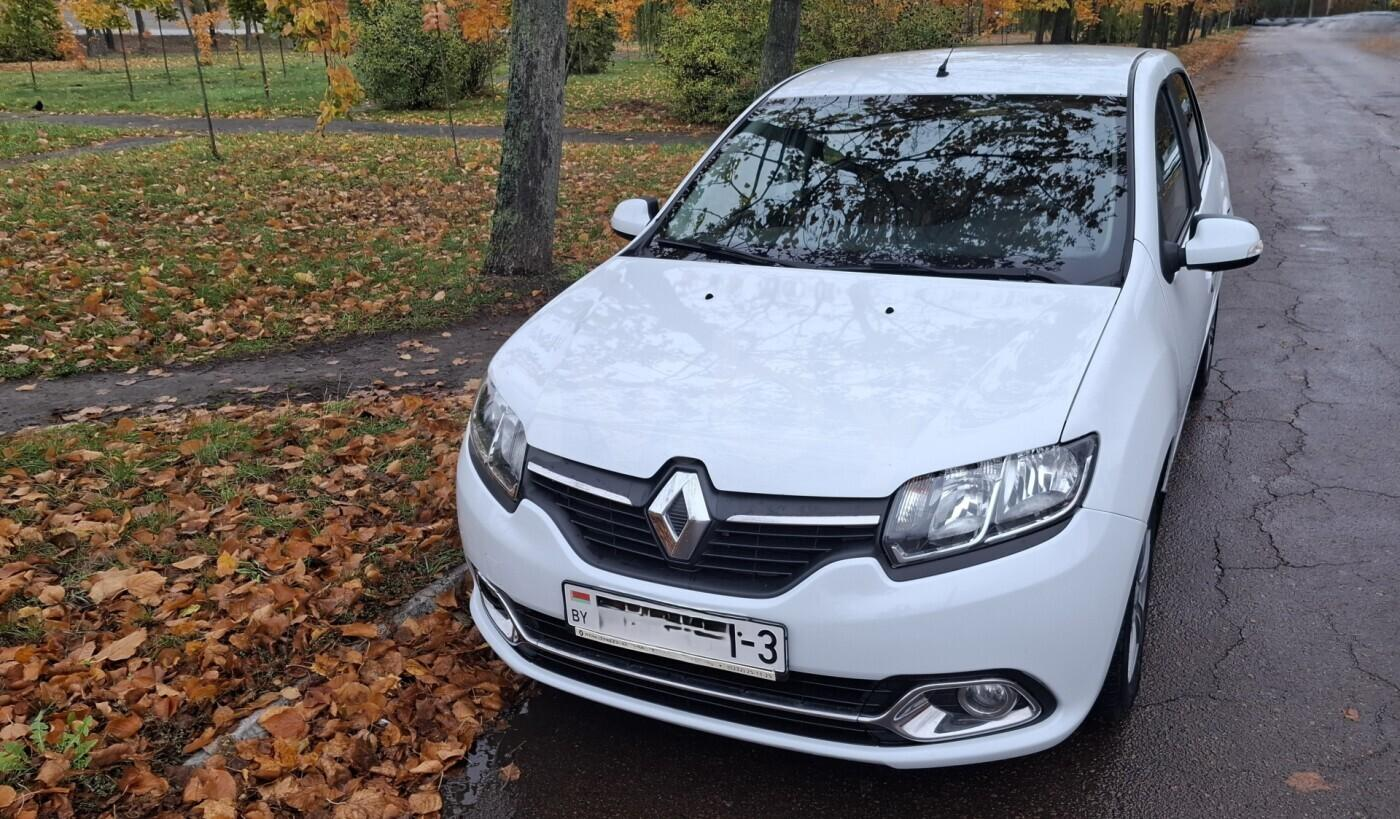Logan_2013-2018: (442, 39, 1256, 772)
